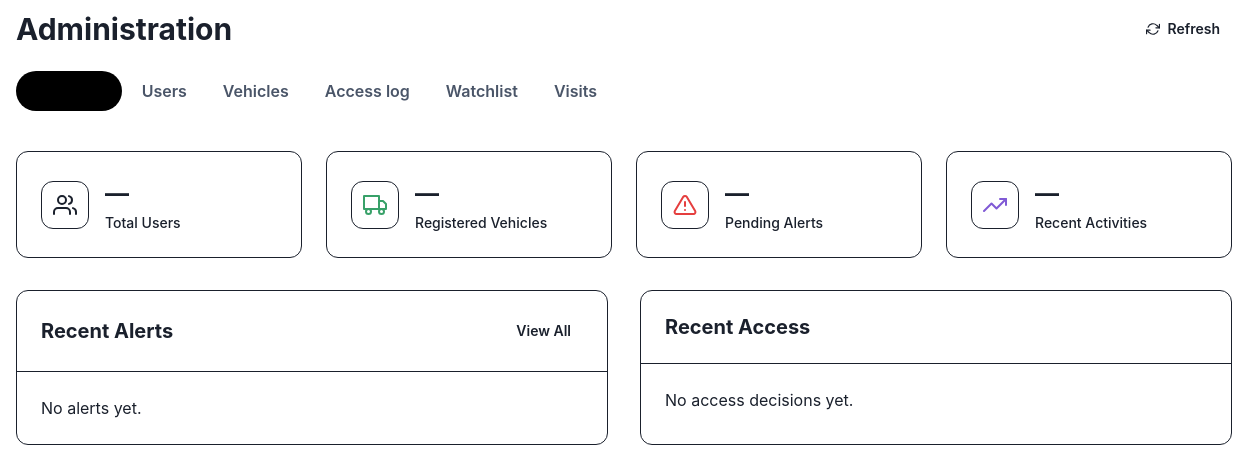
AdminDashboard › lists a vehicle without a colour, with its type and owner by name
Click the tab "Vehicles" at [256, 91], box top-left (207, 71), bottom-right (305, 111)
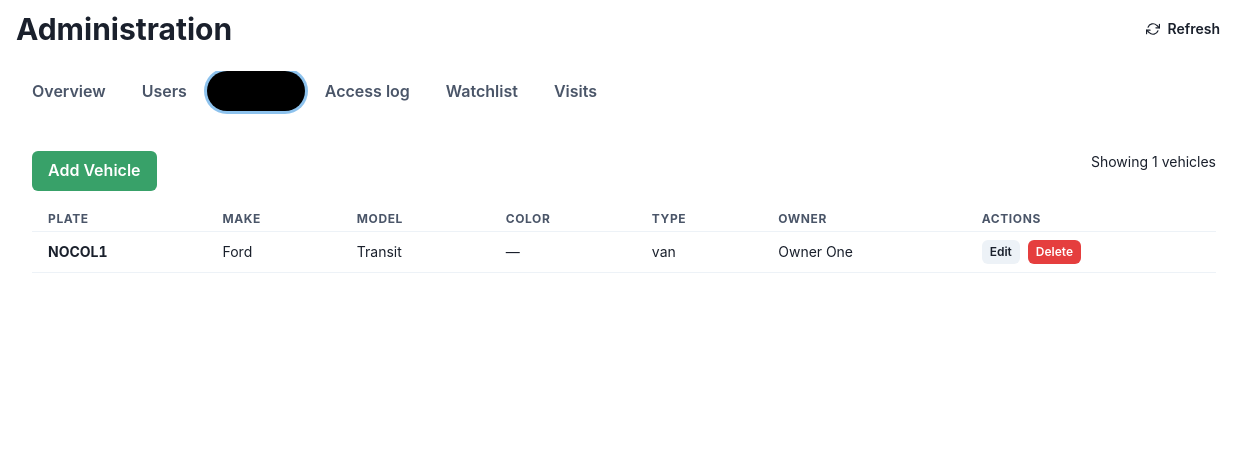
Now the text "NOCOL1" is shown, box top-left (32, 232), bottom-right (206, 272)
Now the text "van" is shown, box top-left (636, 232), bottom-right (762, 272)
Now the text "Owner One" is shown, box top-left (762, 232), bottom-right (966, 272)
